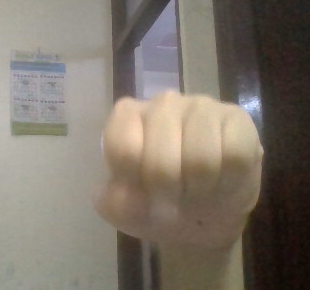click: (83, 70, 302, 279)
